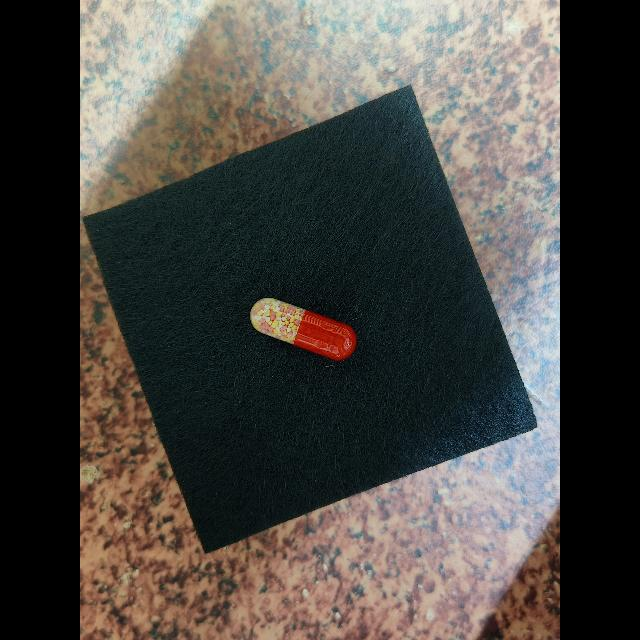Intact Capsule: (250, 298, 357, 361)
